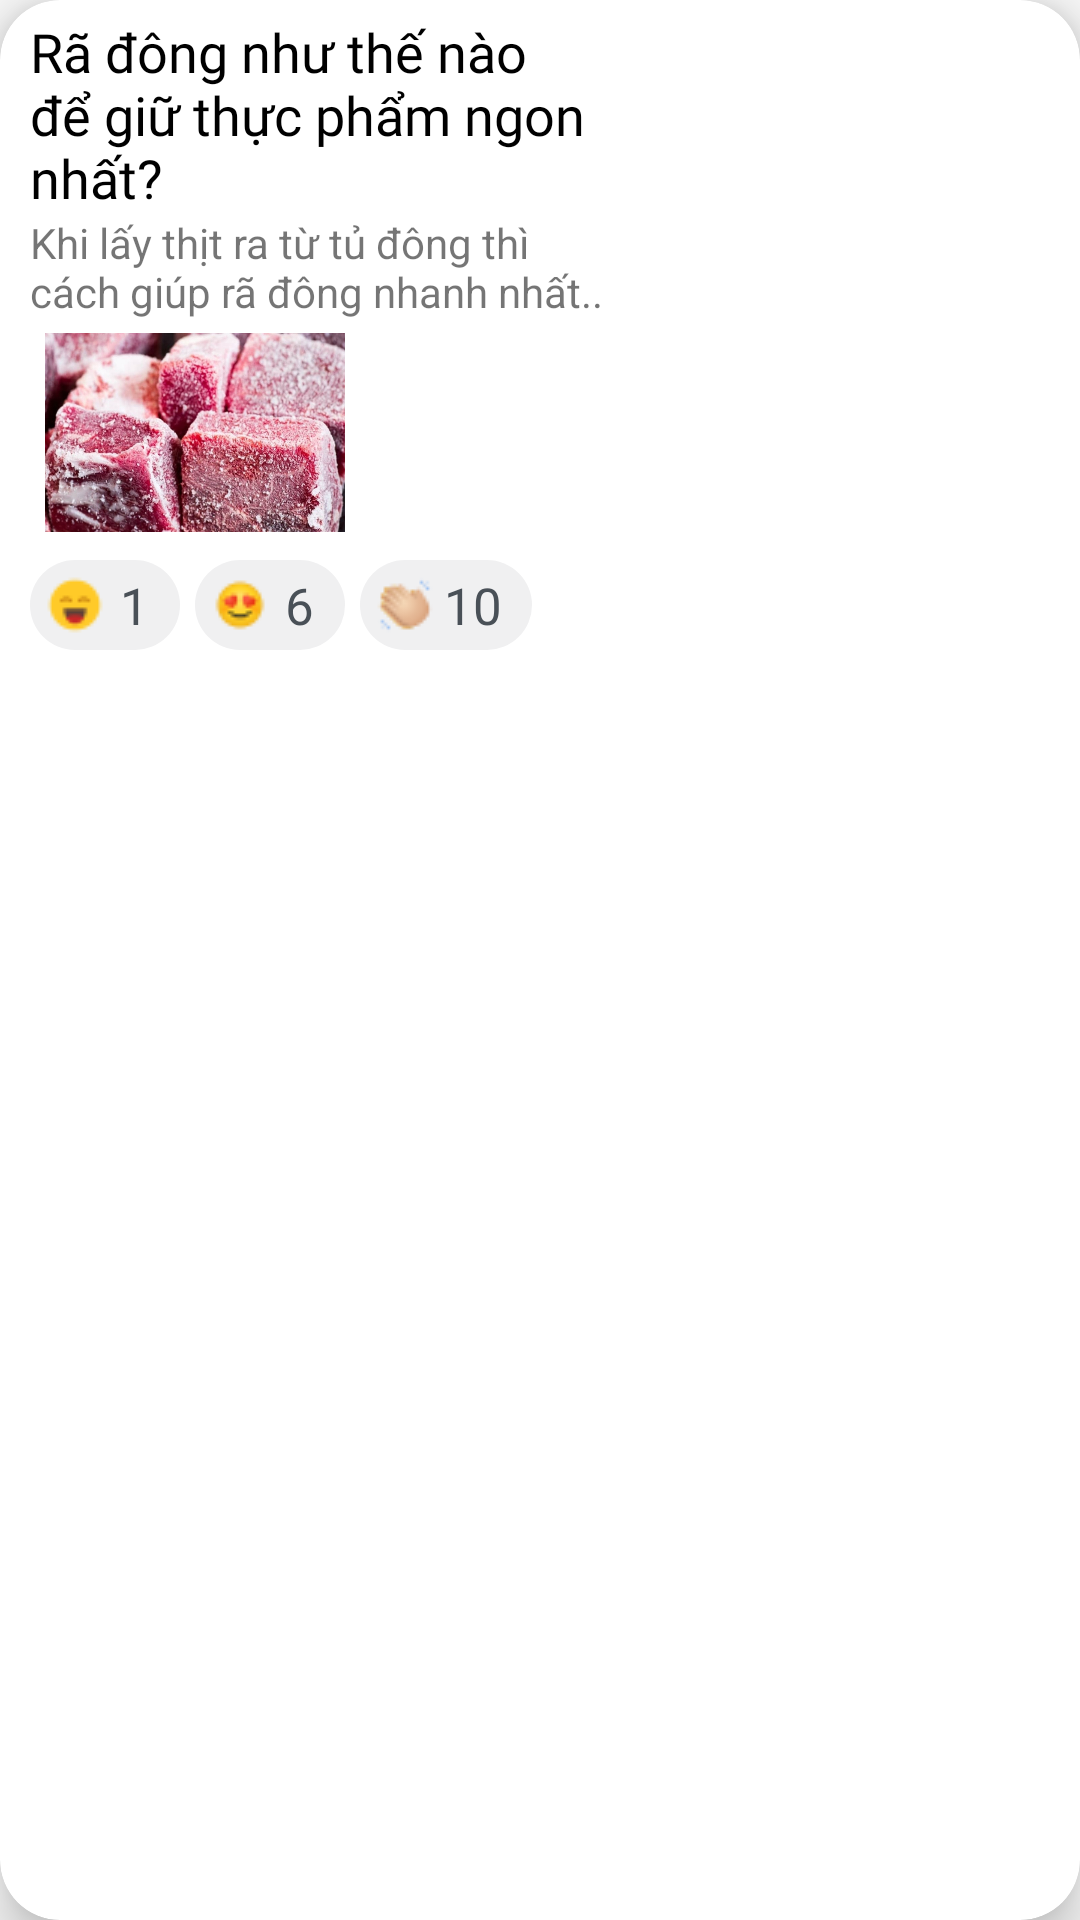

Screen size 1080px×1920px. Icon name, then its center in pixels as (x,y):
clapping hands skin tone: (405,605)
